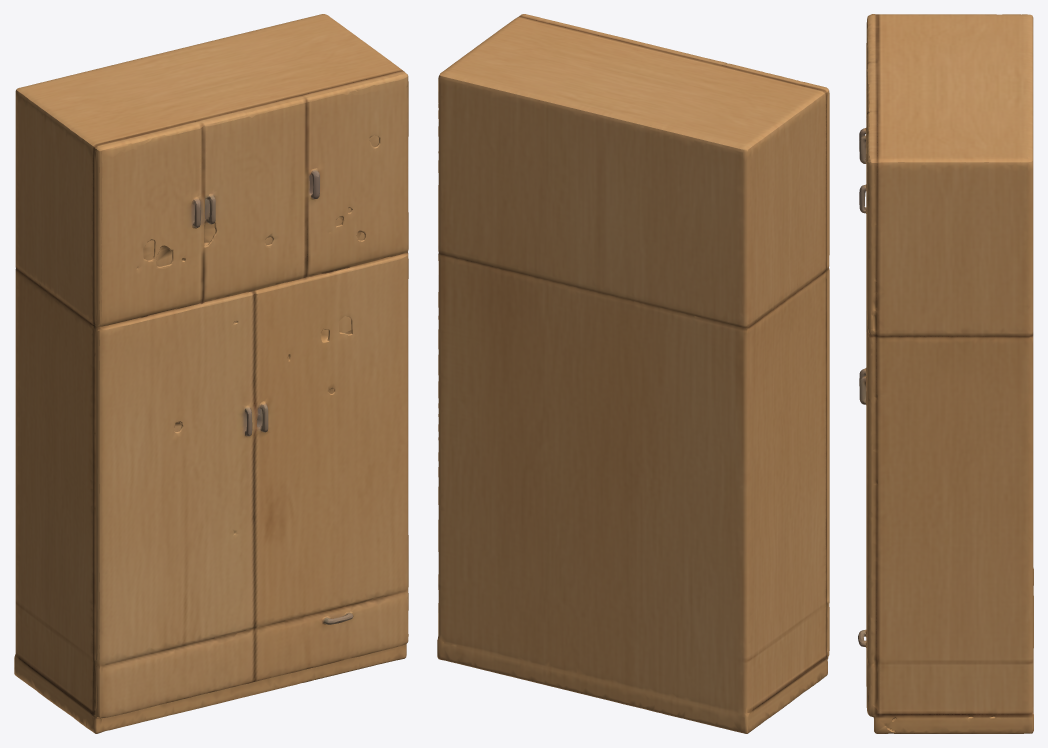
Rendered from item_b590d38c.glb.
The picture shows the model from 3 angles, left to right: view 1: azimuth 30°, elevation 25°; view 2: azimuth 150°, elevation 25°; view 3: azimuth 270°, elevation 25°; orthographic projection. The views are drawn at different scales.
Visible parts, largest first — view 1: world; view 2: world; view 3: world.
Part boxes in pixels (x1,y1,x2,y2): world: (14, 14, 408, 733); world: (437, 14, 829, 733); world: (858, 14, 1033, 733).
Size of the model in its own units: 1.22 by 2.2 by 0.6116.
1 material, 1 textured.
